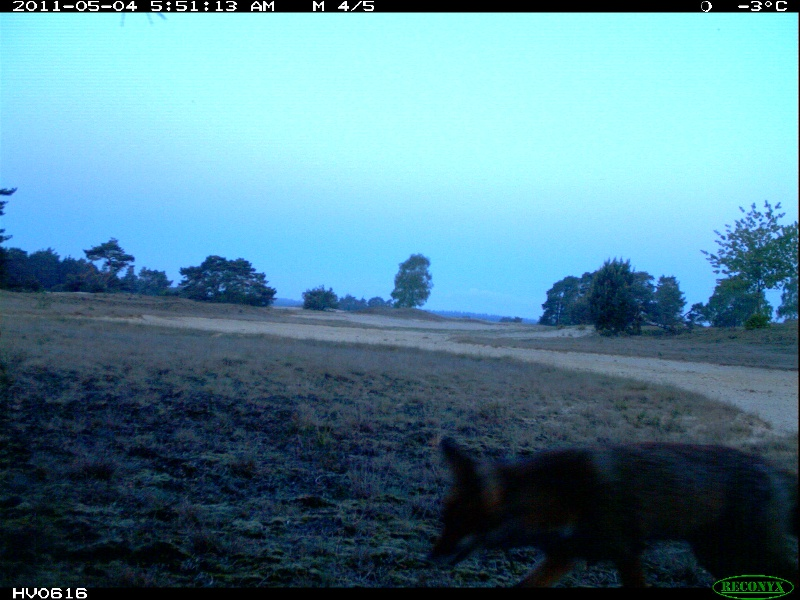fox: (408, 430, 793, 581)
